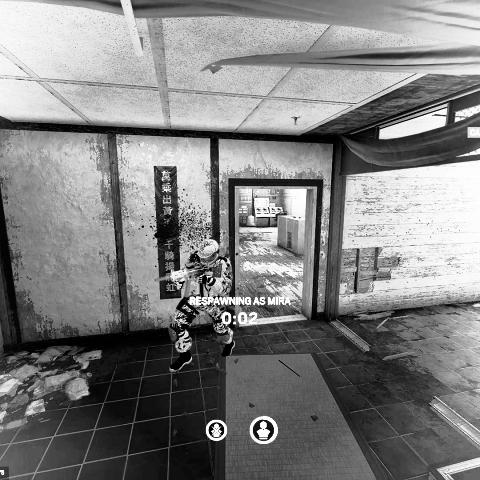Character: (153, 237, 237, 374)
Head: (195, 238, 220, 268)
